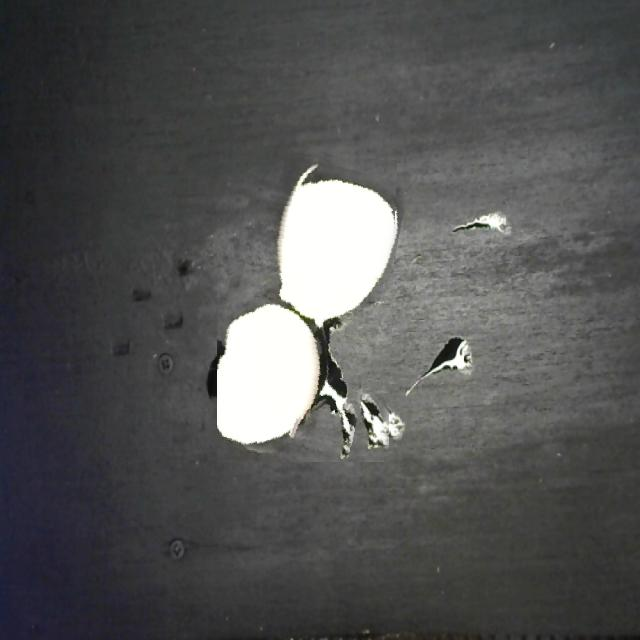biodegradable: (217, 151, 397, 462)
